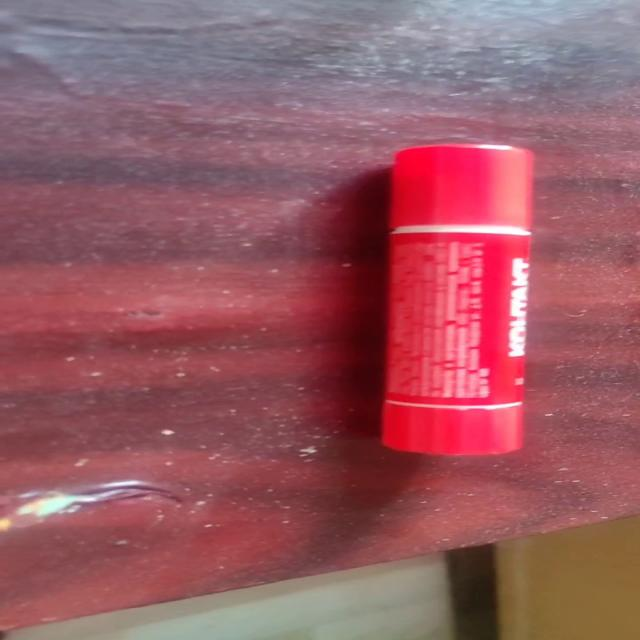glue: (379, 142, 534, 456)
